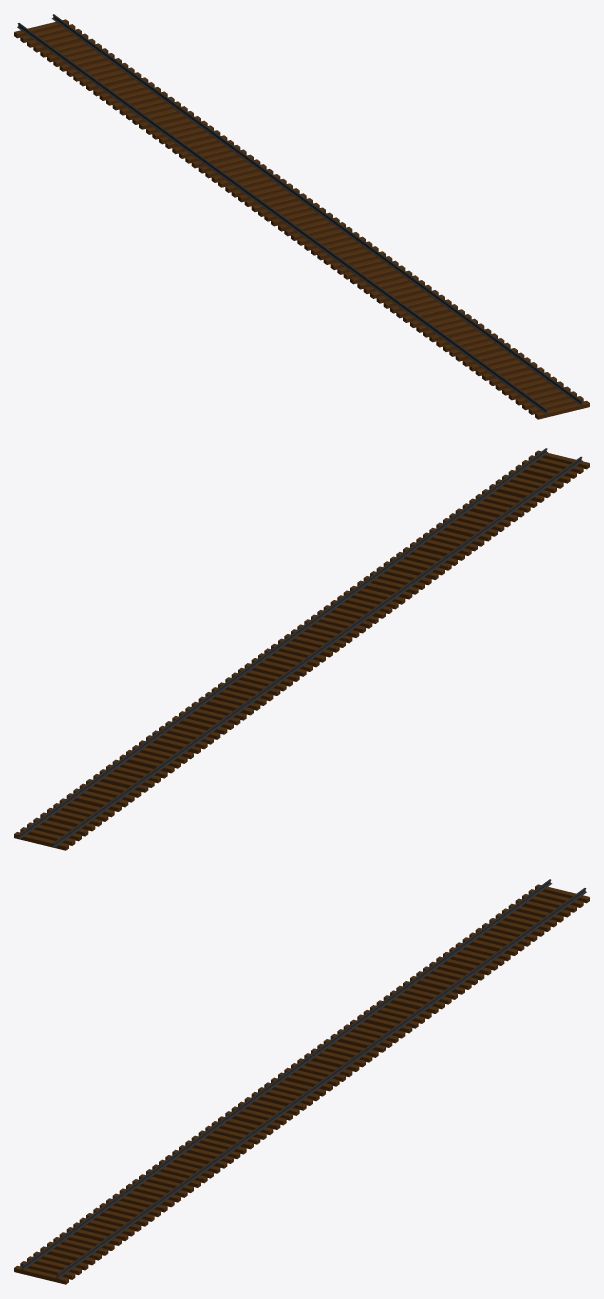
The model's file is 20rails.gltf.
3 views of the same model, one above another, from view 1: azimuth 30°, elevation 25°; view 2: azimuth 150°, elevation 25°; view 3: azimuth 330°, elevation 25° (orthographic).
Visible parts, largest first — view 1: Track; view 2: Track; view 3: Track.
Boxes of the visible parts, x1,y1,x2,y2 form: Track: (14,14,589,419); Track: (14,448,589,850); Track: (14,879,589,1284).
Bounding box in the file's own units: 2.89 × 0.4456 × 50.46.
